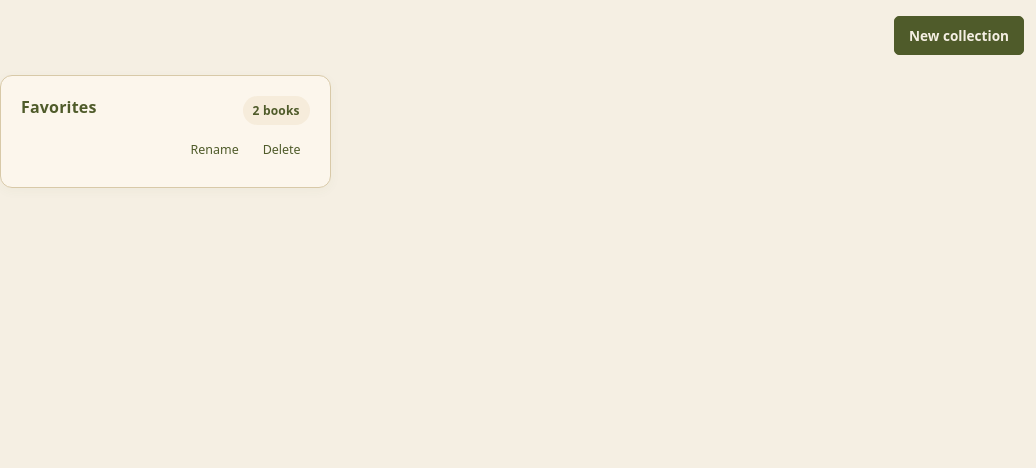
Test: CollectionsManager › defers count refreshes during an edit and uses the latest removal state after failure
Click the button with aria-label "Rename Favorites" at (215, 150), box [182, 133, 248, 167]
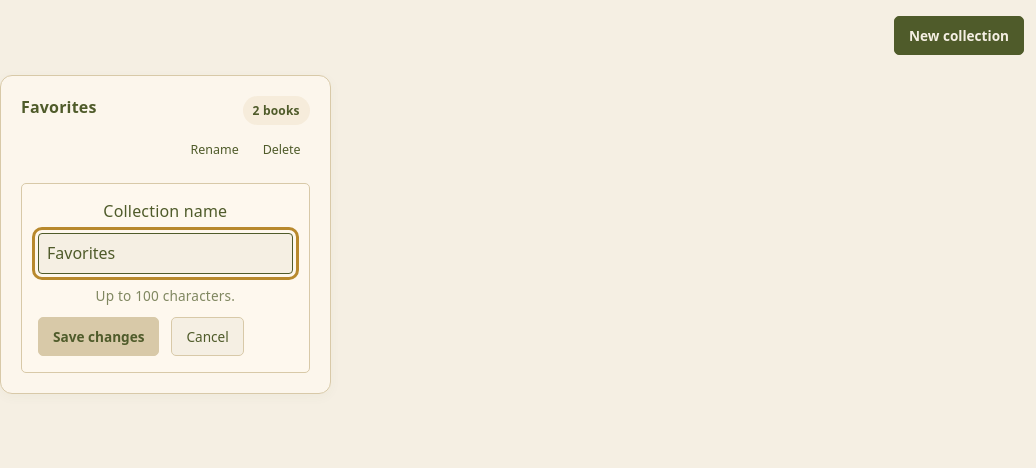
Replace the text in the field labelled "Collection name" with "Updated" at (165, 253), box [38, 233, 293, 274]
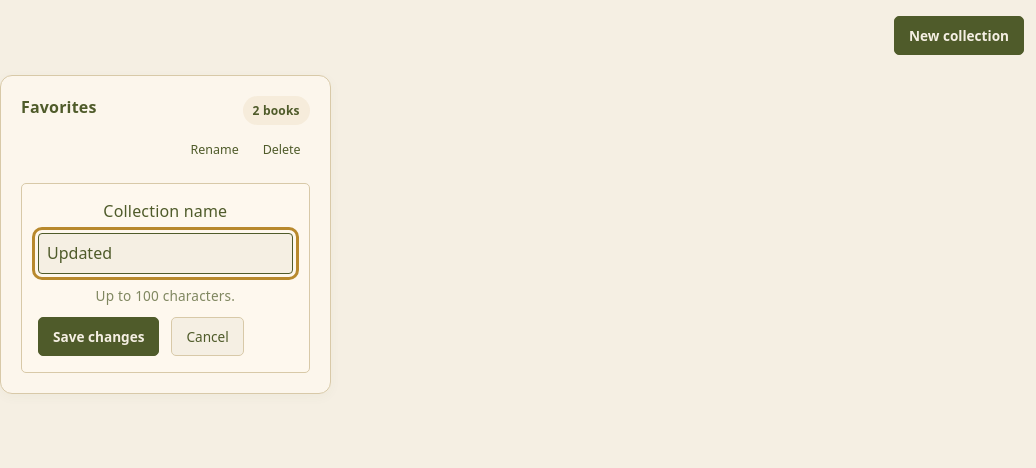
Click the button "Save changes" at (99, 337), box [38, 317, 160, 356]
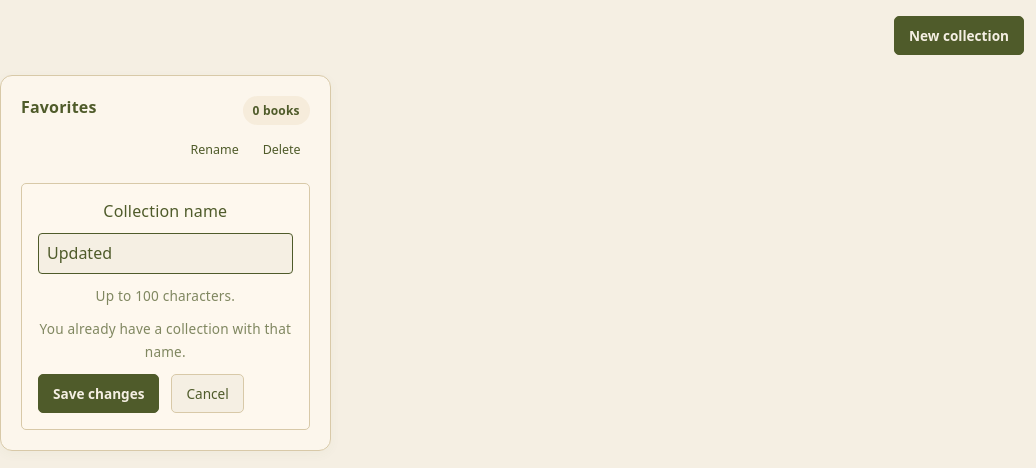
Check: the field labelled "Collection name" holds "Updated", box [38, 233, 293, 274]
Check: the text "0 books" is shown, box [242, 96, 310, 125]
Check: the message shows "already have a collection with that name", box [40, 319, 291, 361]
